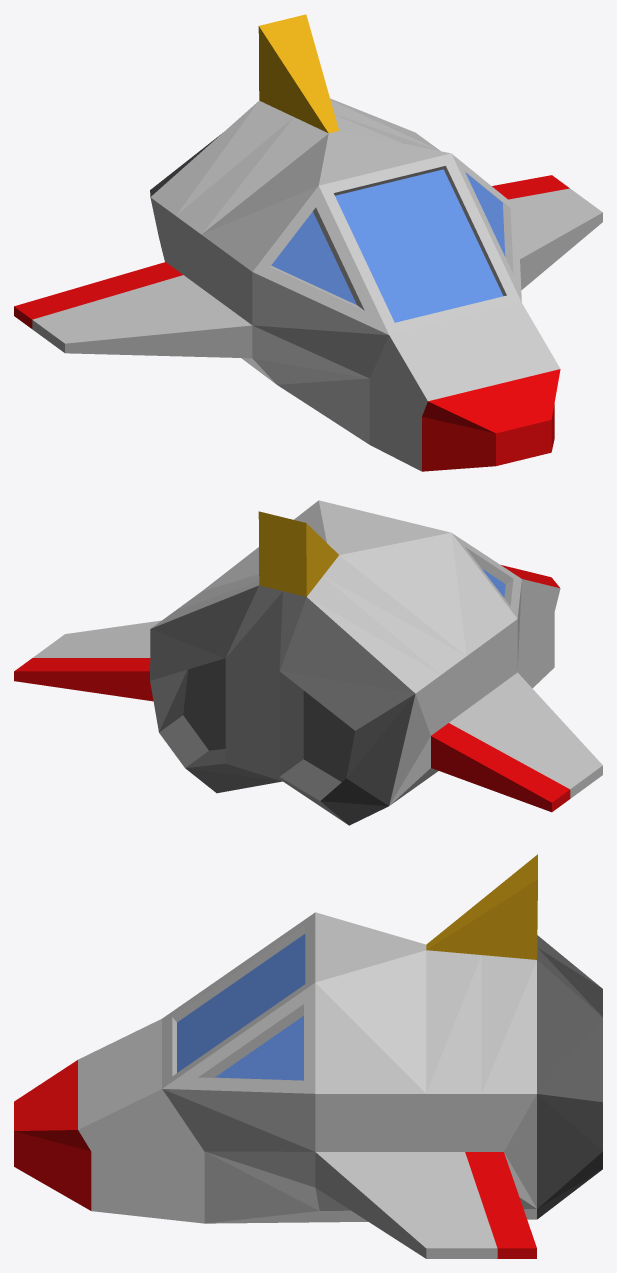
The model's file is JetFighter.fbx.
The picture shows the model from 3 angles, top to bottom: view 1: azimuth 30°, elevation 25°; view 2: azimuth 150°, elevation 25°; view 3: azimuth 270°, elevation 25°; orthographic projection. The views are drawn at different scales.
Parts seen in each view (by area): view 1: JetFighter; view 2: JetFighter; view 3: JetFighter.
Boxes of the visible parts, <box> form: JetFighter: <box>14,14,602,471</box>; JetFighter: <box>14,500,602,825</box>; JetFighter: <box>14,854,602,1258</box>.
Bounding box in the file's own units: 406 × 214 × 354.
